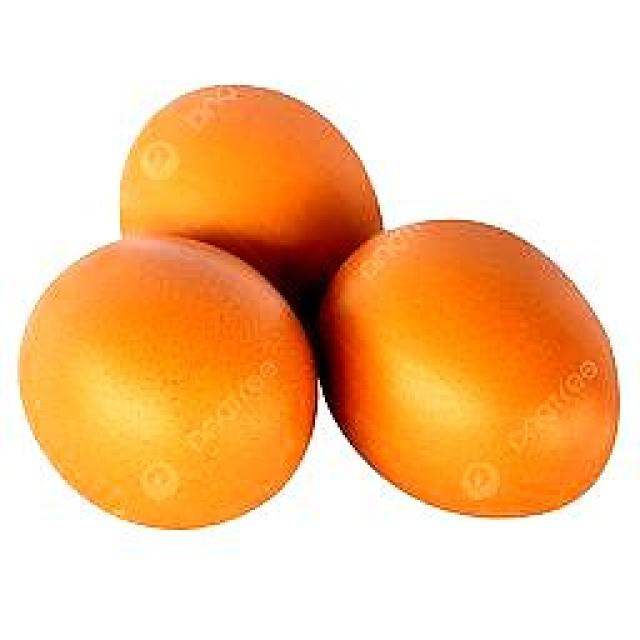Eggs: (15, 234, 317, 532), (321, 221, 618, 520), (120, 85, 380, 306)
